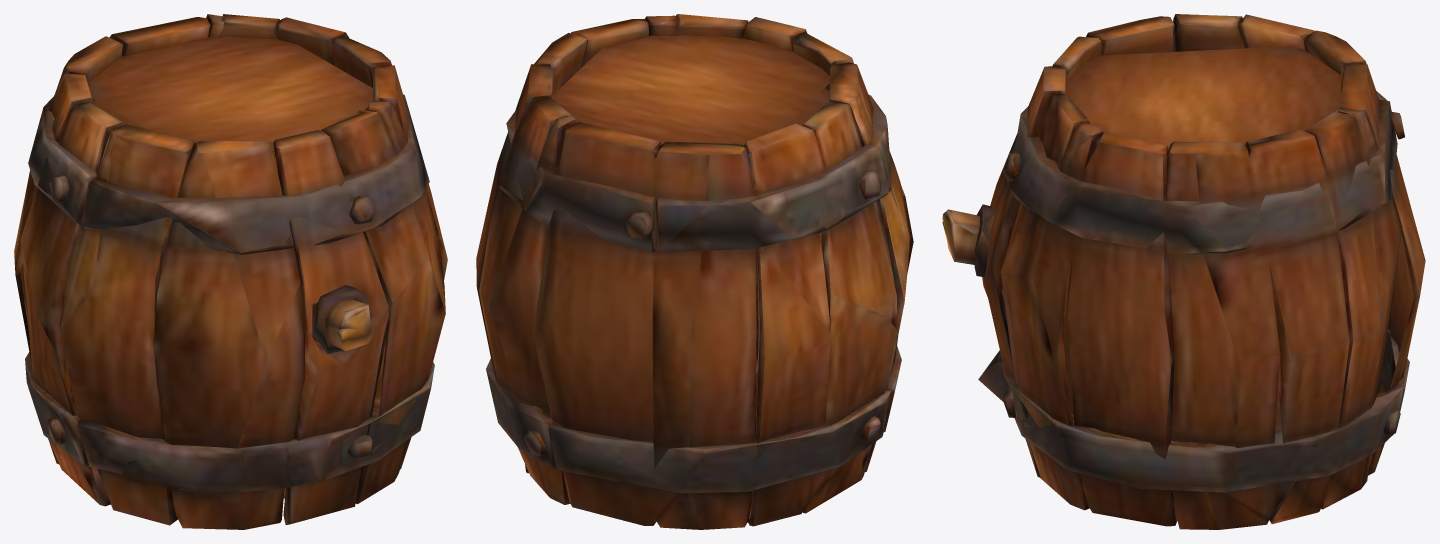
The model's file is prop-rum-barrel-v1-mobile.glb.
3 views of the same model, side by side, from view 1: azimuth 30°, elevation 25°; view 2: azimuth 150°, elevation 25°; view 3: azimuth 270°, elevation 25° (orthographic).
Parts seen in each view (by area): view 1: tripo_node_5c7b29fd-e32b-4ff8-87a9-f045bb61ca9a; view 2: tripo_node_5c7b29fd-e32b-4ff8-87a9-f045bb61ca9a; view 3: tripo_node_5c7b29fd-e32b-4ff8-87a9-f045bb61ca9a.
Boxes of the visible parts, bbox=[...] form: tripo_node_5c7b29fd-e32b-4ff8-87a9-f045bb61ca9a: bbox=[14, 14, 447, 529]; tripo_node_5c7b29fd-e32b-4ff8-87a9-f045bb61ca9a: bbox=[476, 14, 913, 529]; tripo_node_5c7b29fd-e32b-4ff8-87a9-f045bb61ca9a: bbox=[942, 14, 1425, 529].
Bounding box in the file's own units: 0.9062 × 0.8618 × 0.9941.
Materials: 1 (1 with a texture image).
